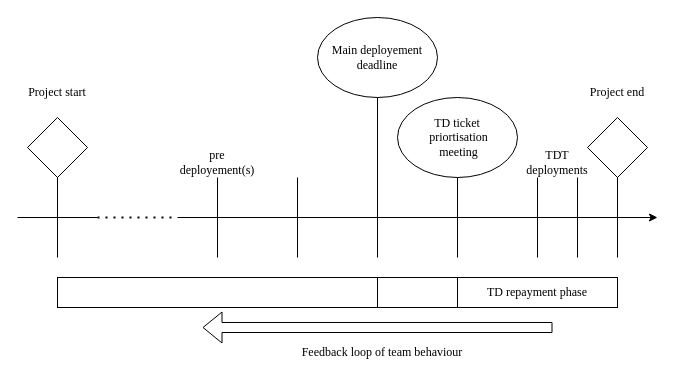
Some shapes in this 683 by 385 pixel diagram are drawn without their labels. The shapes that lost their labels are listed below. From the top down, each one's centre as x and y in pixels, then its label:
[217,292]: Main development phase
[417,292]: Initial use phase
